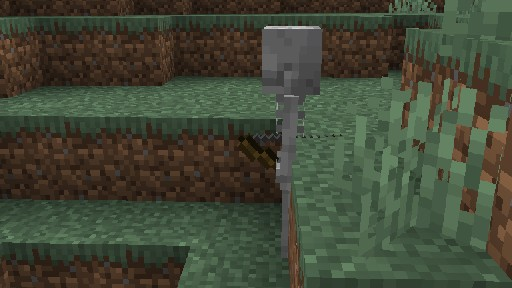skeleton: (236, 25, 345, 258)
